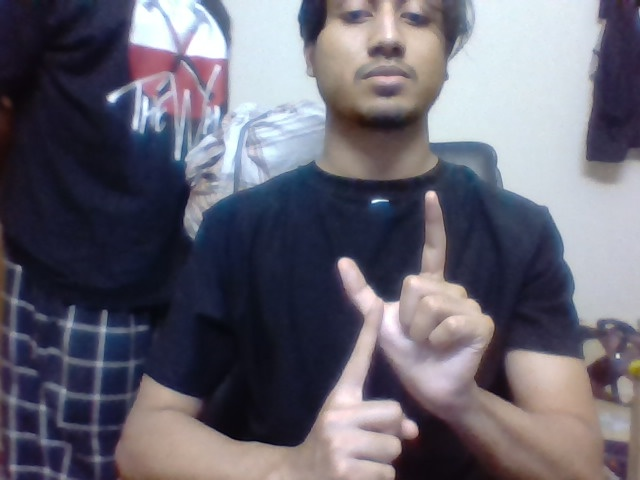Y: (327, 186, 456, 384)
